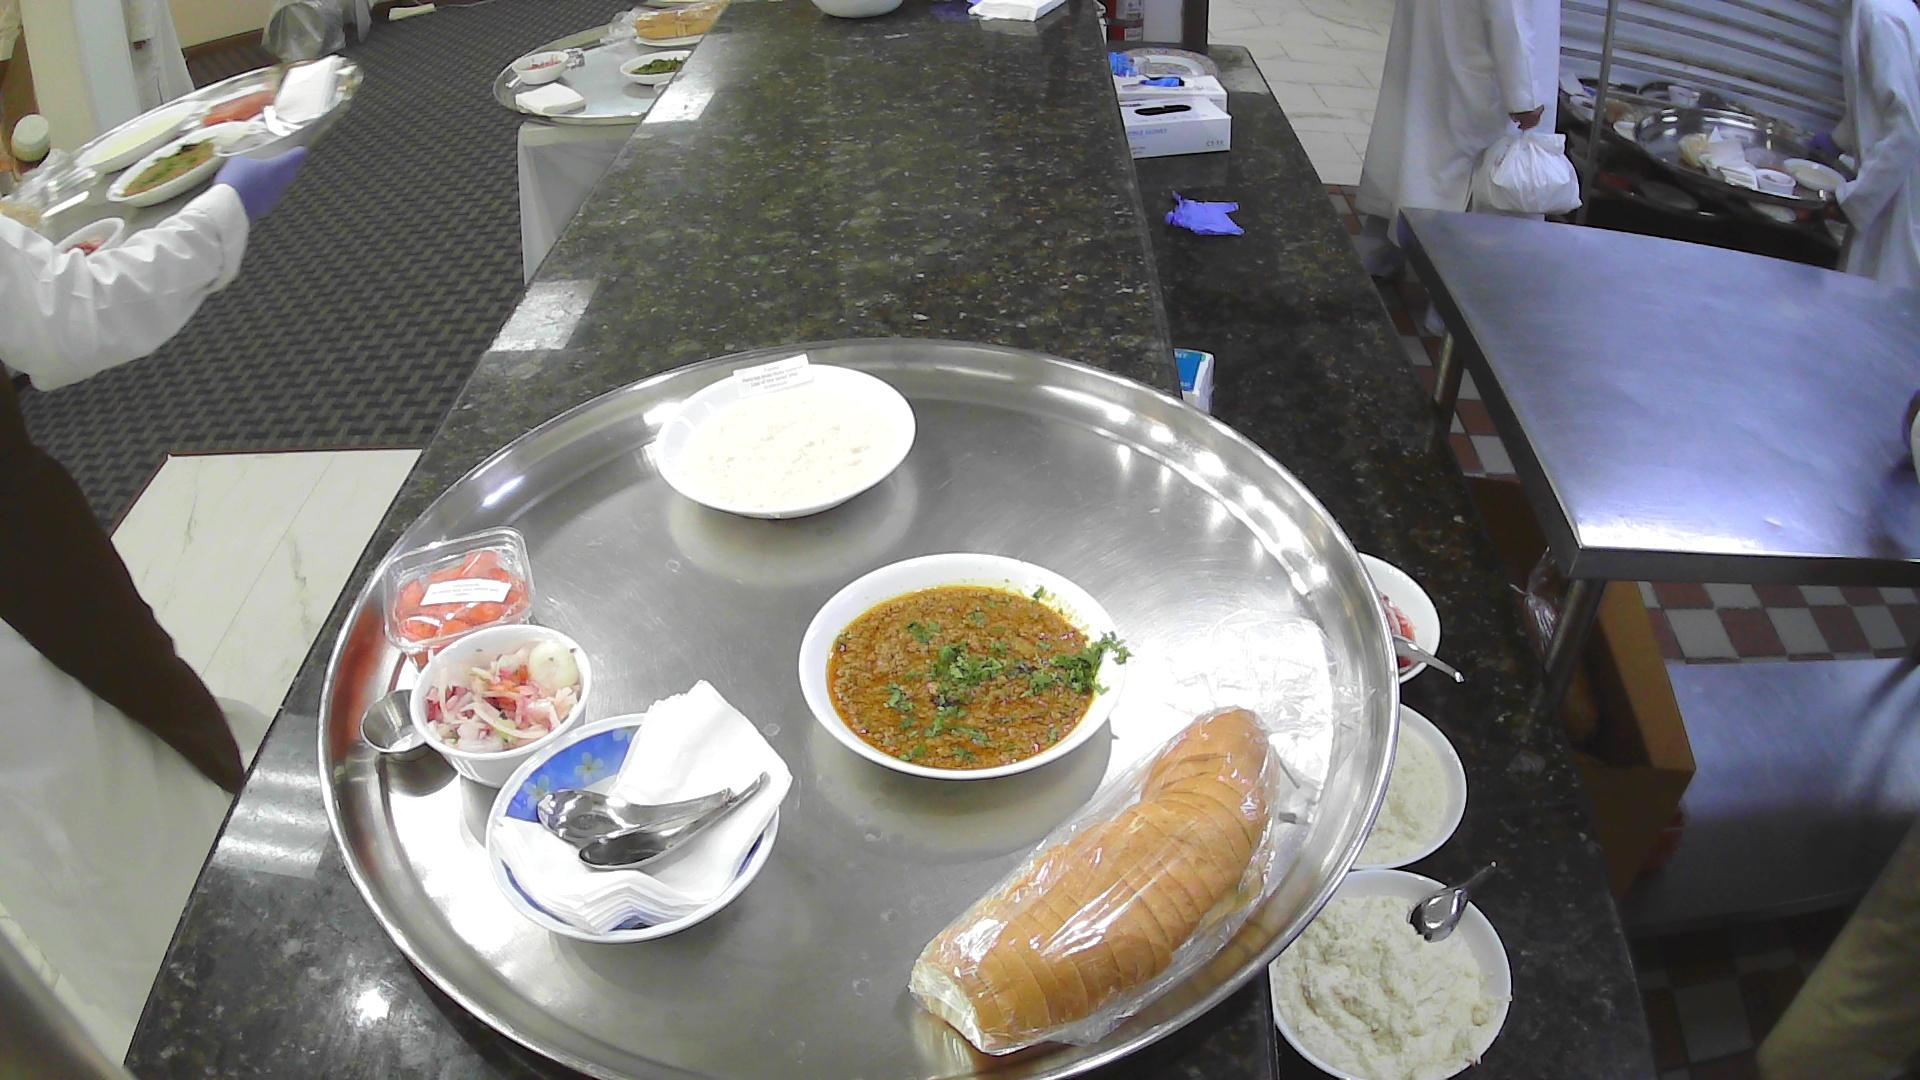thaal: (316, 328, 1403, 1080), (0, 57, 364, 258), (492, 16, 719, 127), (1633, 107, 1850, 212)
